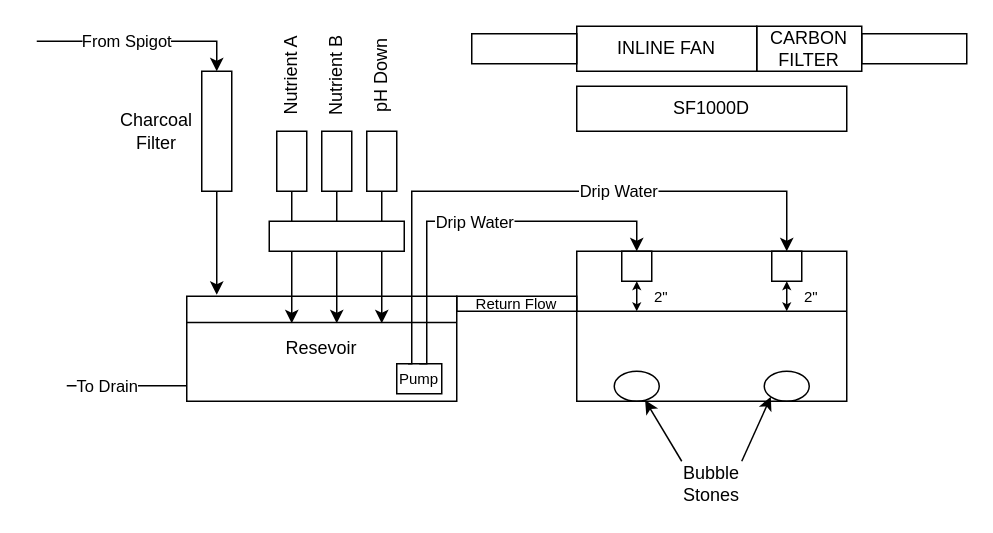
The diagram is 993 pixels wide and 533 high, and some of its shapes have lost their labels. The box of each missing label's shape, as (x1, y1, x2, y2) in pixels:
3-pump system: (268, 220, 404, 251)
5 Gallon Bucket: (575, 250, 847, 401)
